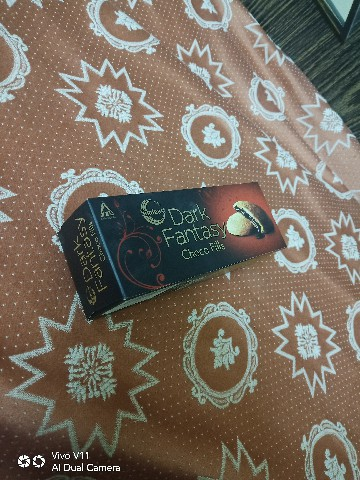darkfantasy big: (49, 166, 307, 340)
